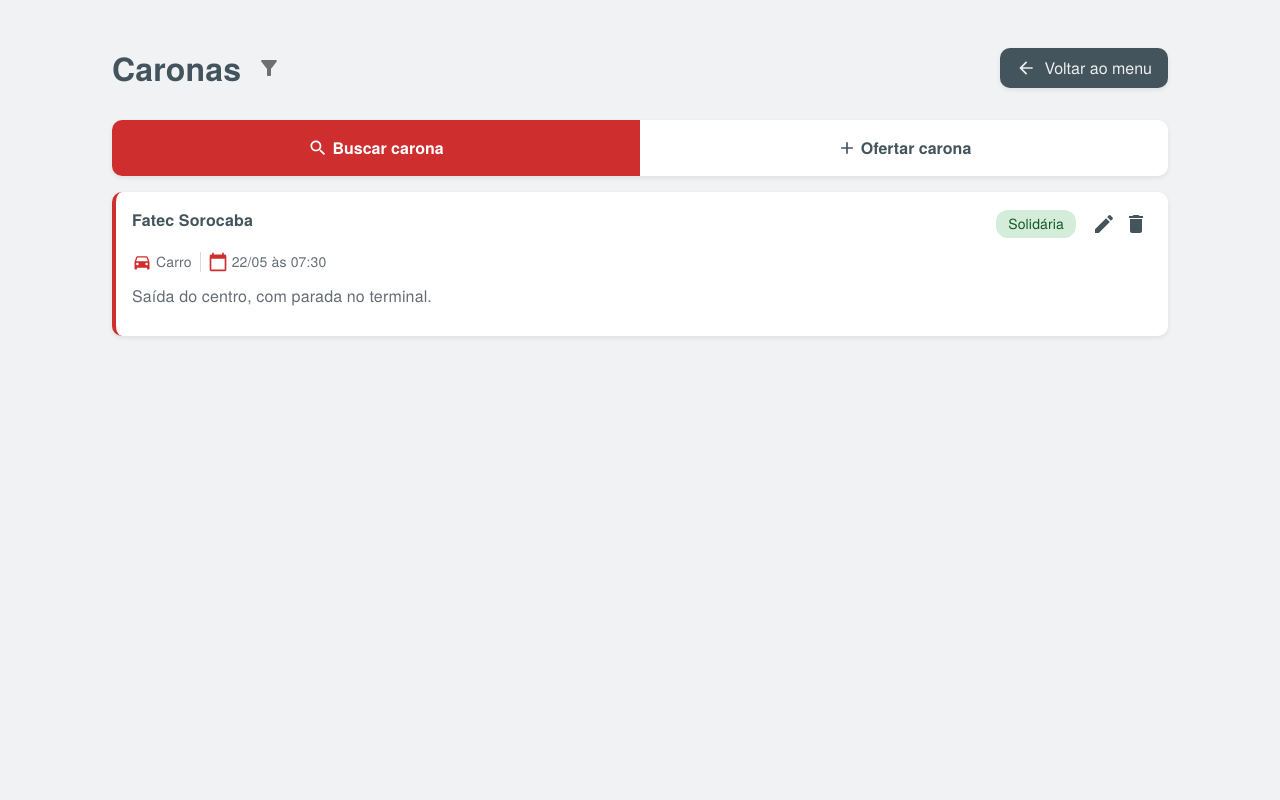
Rides › should report a failure to delete
expect the text "Fatec Sorocaba" is shown: met, box [132,208,253,232]
Click the button named "Excluir": (1136, 224) [1120,208,1152,240]
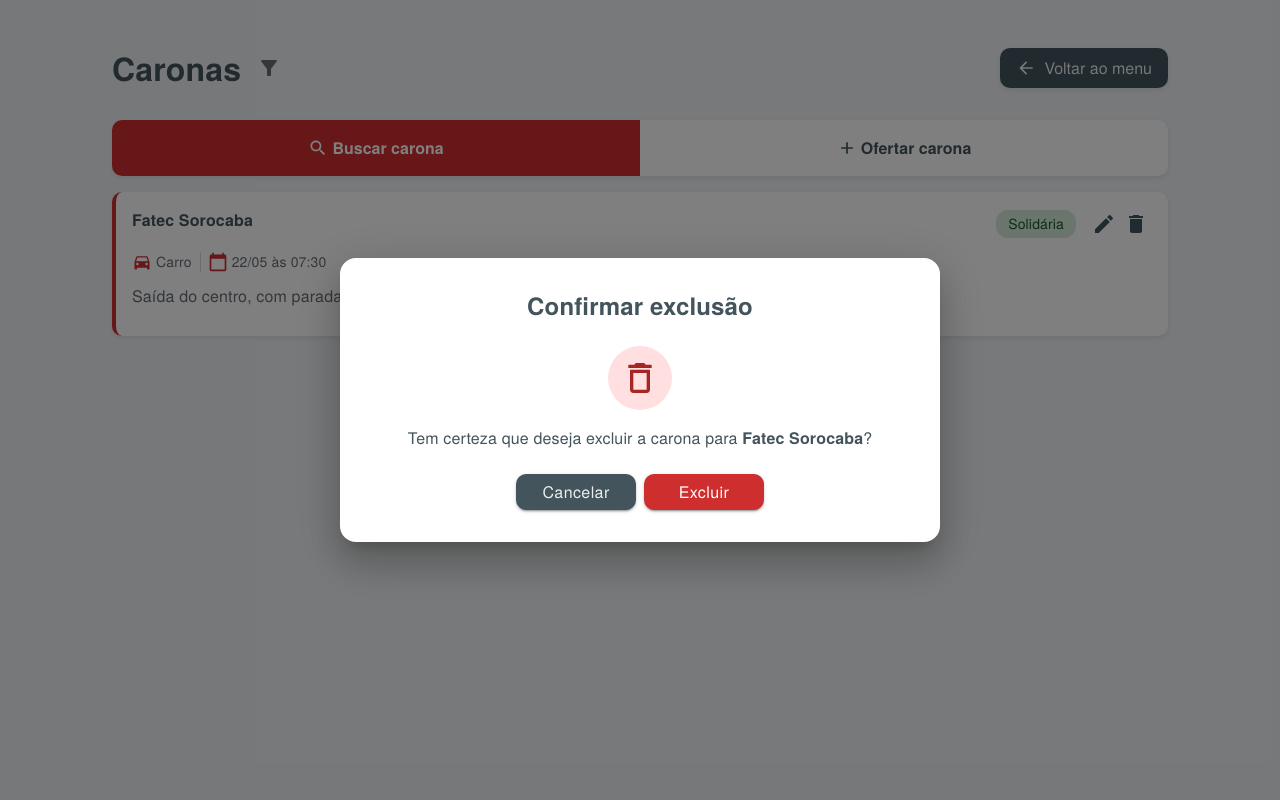
Click the button "Excluir": (704, 492) [644,474,764,510]
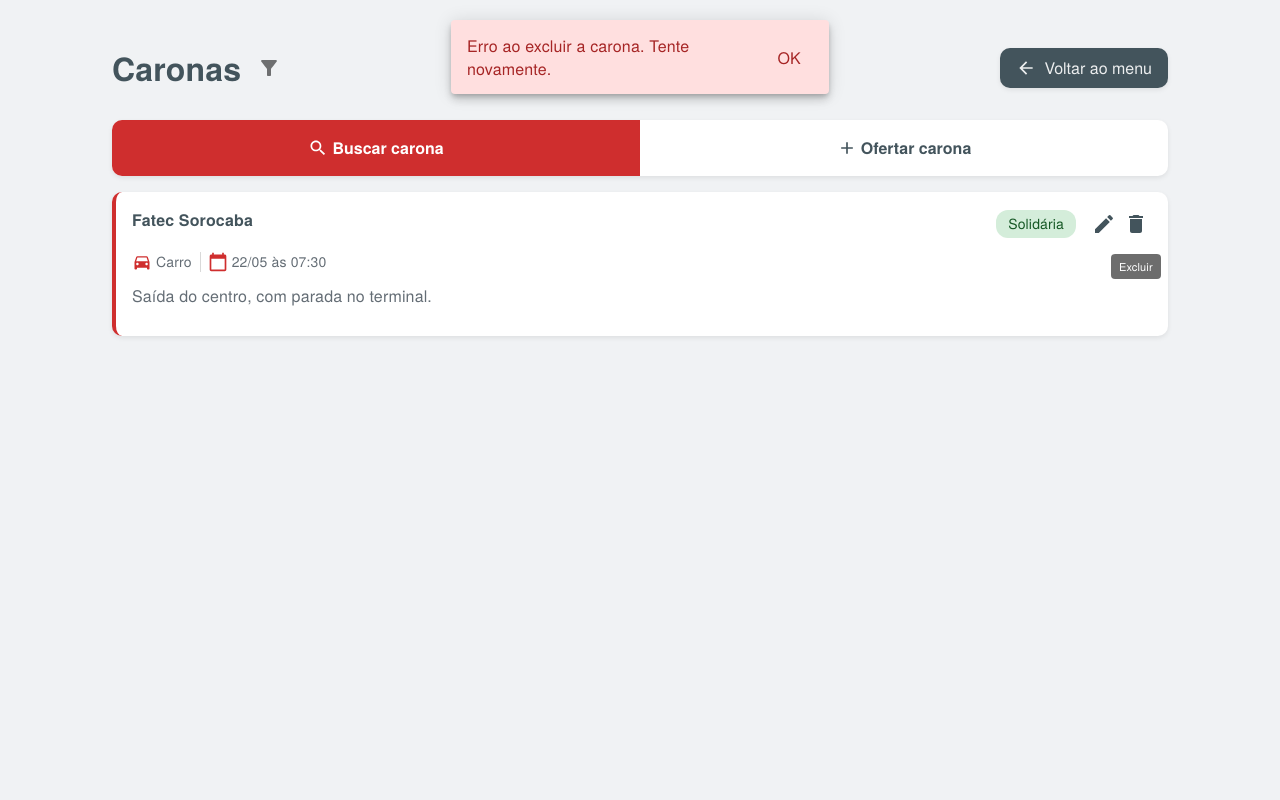
expect the text "Erro ao excluir a carona. Tente novamente." is shown: met, box [467,34,689,80]
